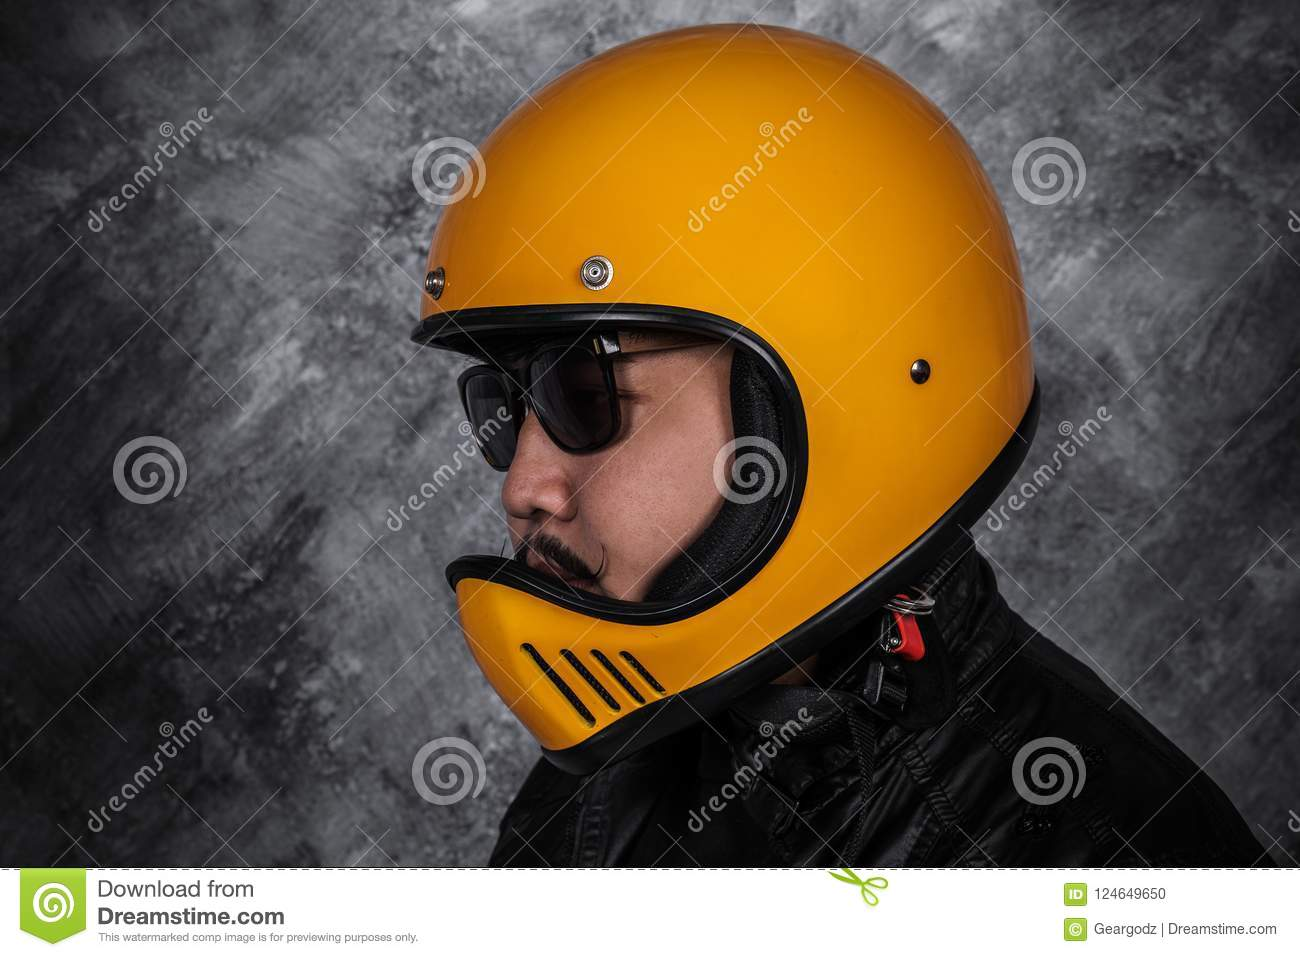helmet: (392, 46, 1045, 673)
